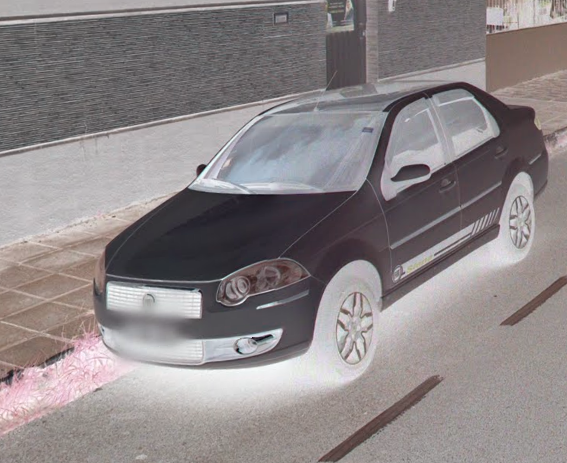car: (92, 71, 551, 387)
